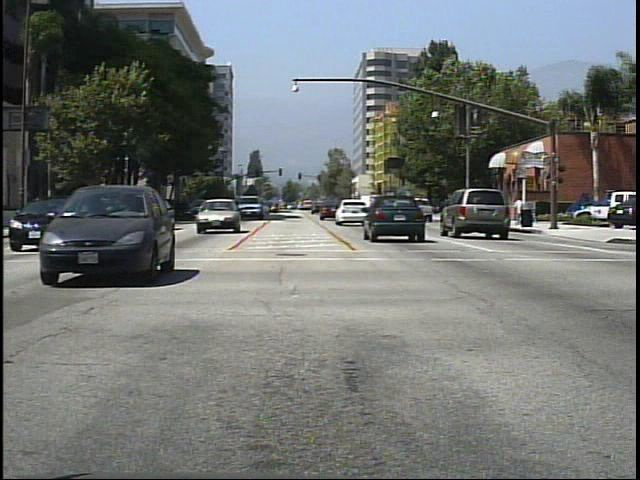person: (511, 195, 529, 232), (479, 190, 497, 225)
